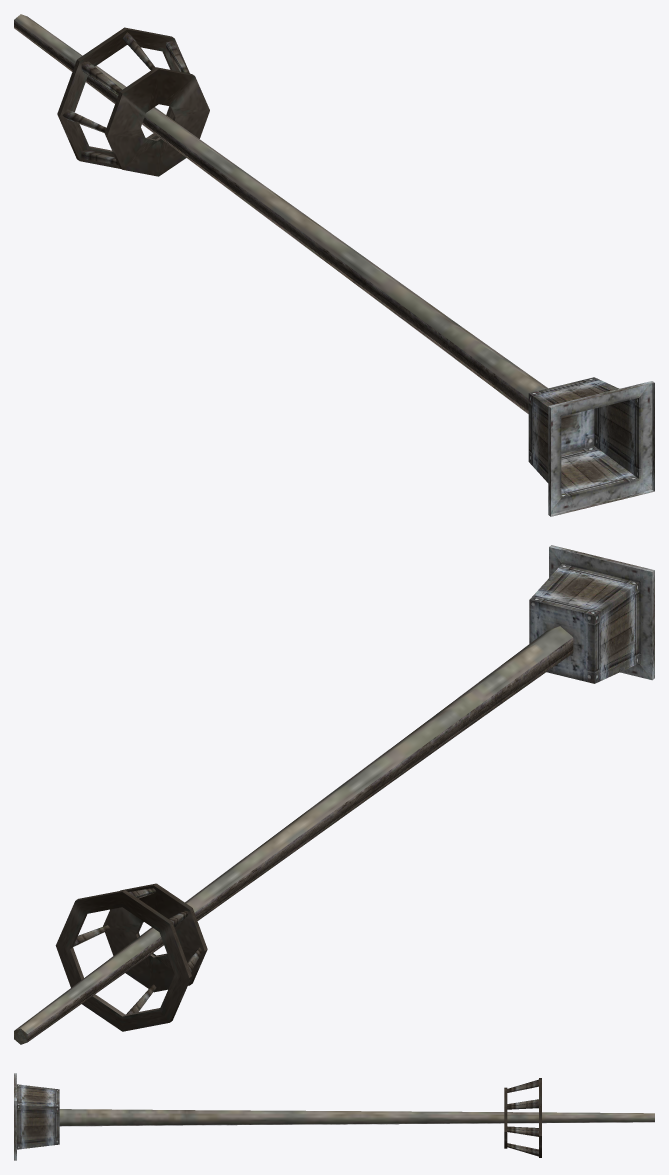
3 views of the same model, one above another, from view 1: azimuth 30°, elevation 25°; view 2: azimuth 150°, elevation 25°; view 3: azimuth 270°, elevation 25° (orthographic). The views are drawn at different scales.
Parts seen in each view (by area): view 1: Object37; view 2: Object37; view 3: Object37.
Part boxes in pixels (x1=…): Object37: x1=14, y1=14, x2=654, y2=516; Object37: x1=14, y1=545, x2=654, y2=1044; Object37: x1=14, y1=1073, x2=654, y2=1160.
Size of the model in its own units: 10595 by 10595 by 79729.
